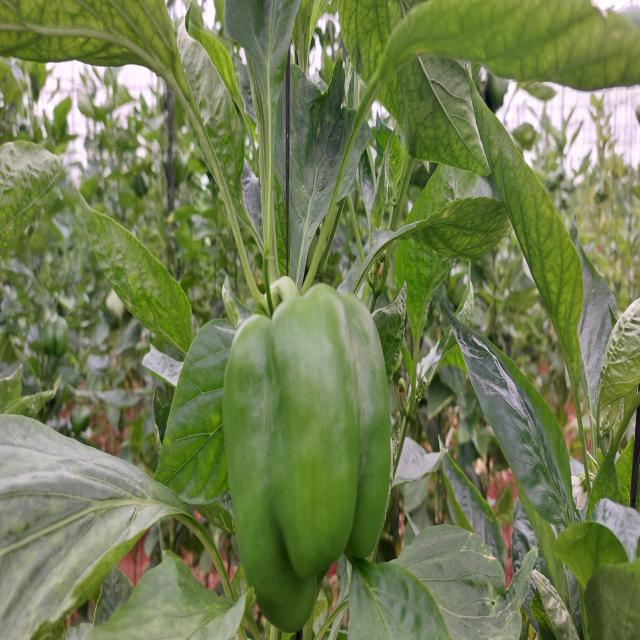Green--Not-ready-to-harvest: (227, 285, 403, 627)
